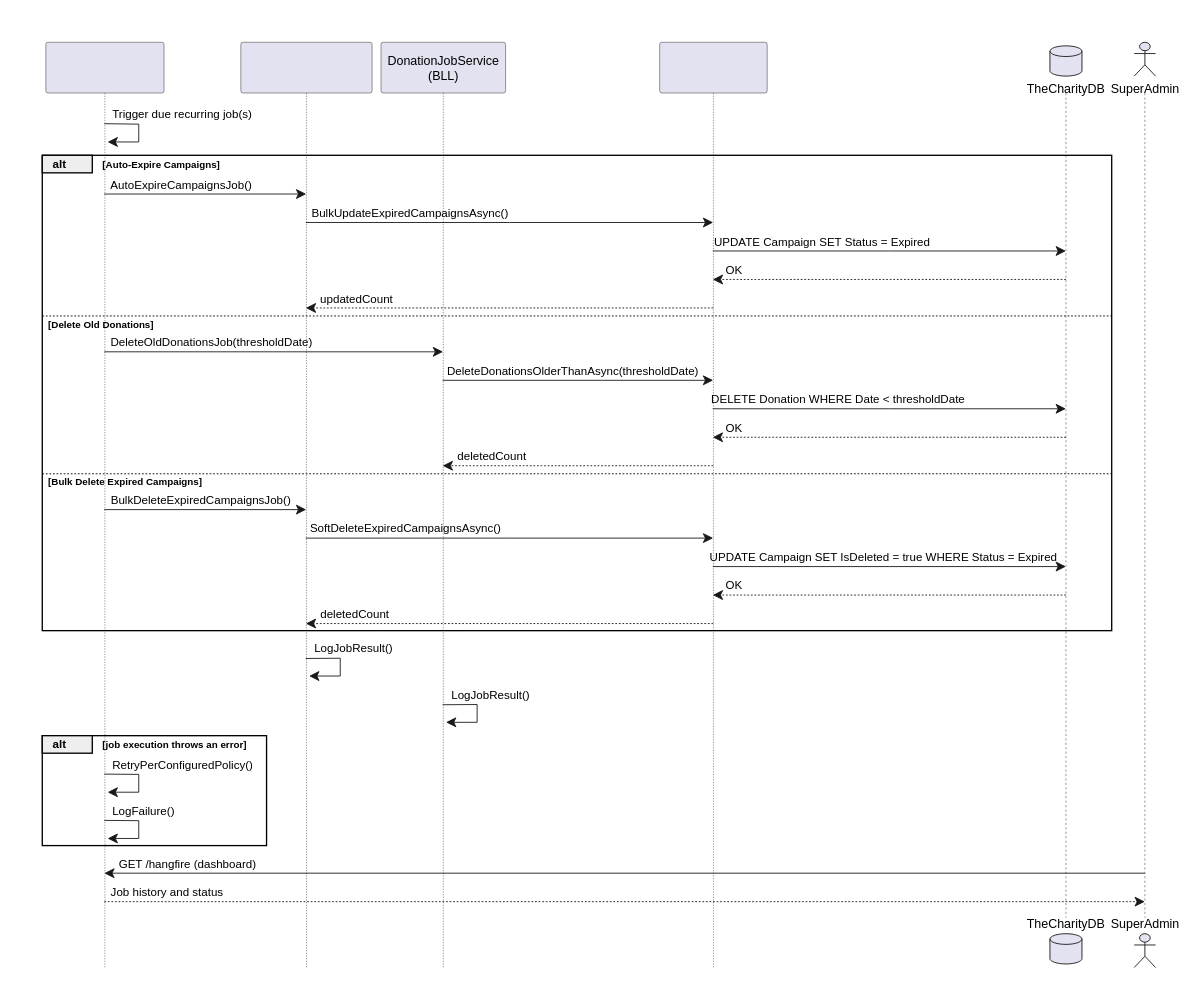
This 1194x983 diagram has some shape labels left out. The shapes that lost their labels are listed below. From the top down, each one's box as (x1, y1, x2, y2) in pixels, then its label:
(45, 42, 164, 967): Hangfire Scheduler
(240, 42, 372, 967): CampaignJobService (BLL)
(659, 42, 767, 967): Repository Layer (DAL)
